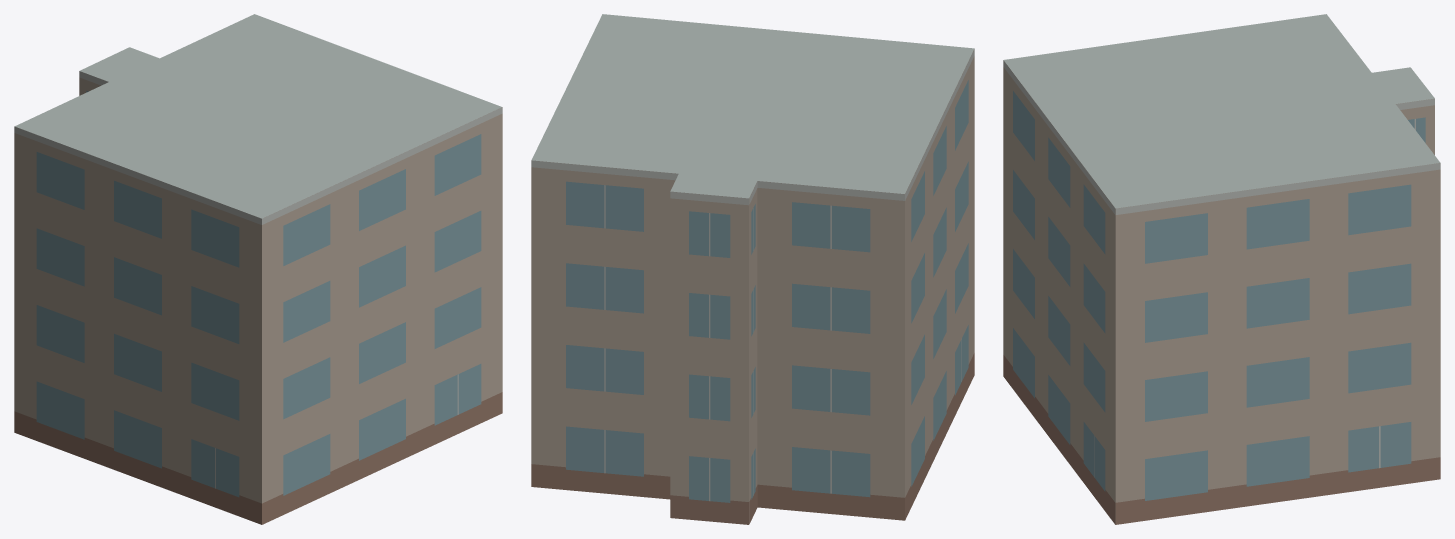
The model's file is survey-upis-33008546.glb.
3 views of the same model, side by side, from view 1: azimuth 30°, elevation 25°; view 2: azimuth 150°, elevation 25°; view 3: azimuth 270°, elevation 25° (orthographic). The views are drawn at different scales.
Visible parts, largest first — view 1: survey-upis-33008546.tmp; view 2: survey-upis-33008546.tmp; view 3: survey-upis-33008546.tmp.
Boxes of the visible parts, left/top/right/bottom form: survey-upis-33008546.tmp: left=14, top=14, right=502, bottom=524; survey-upis-33008546.tmp: left=531, top=14, right=974, bottom=524; survey-upis-33008546.tmp: left=1003, top=14, right=1440, bottom=524.
Bounding box in the file's own units: 15.31 × 11.6 × 14.54.
